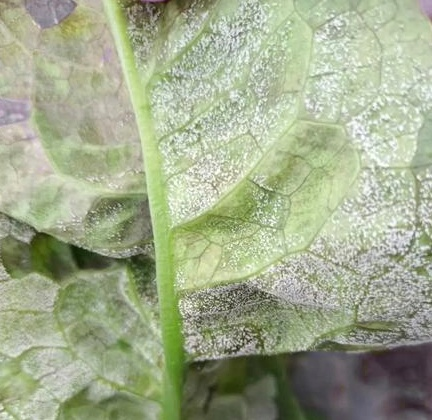Stink_Bug: (163, 13, 422, 347), (61, 156, 149, 268), (10, 268, 72, 400)
